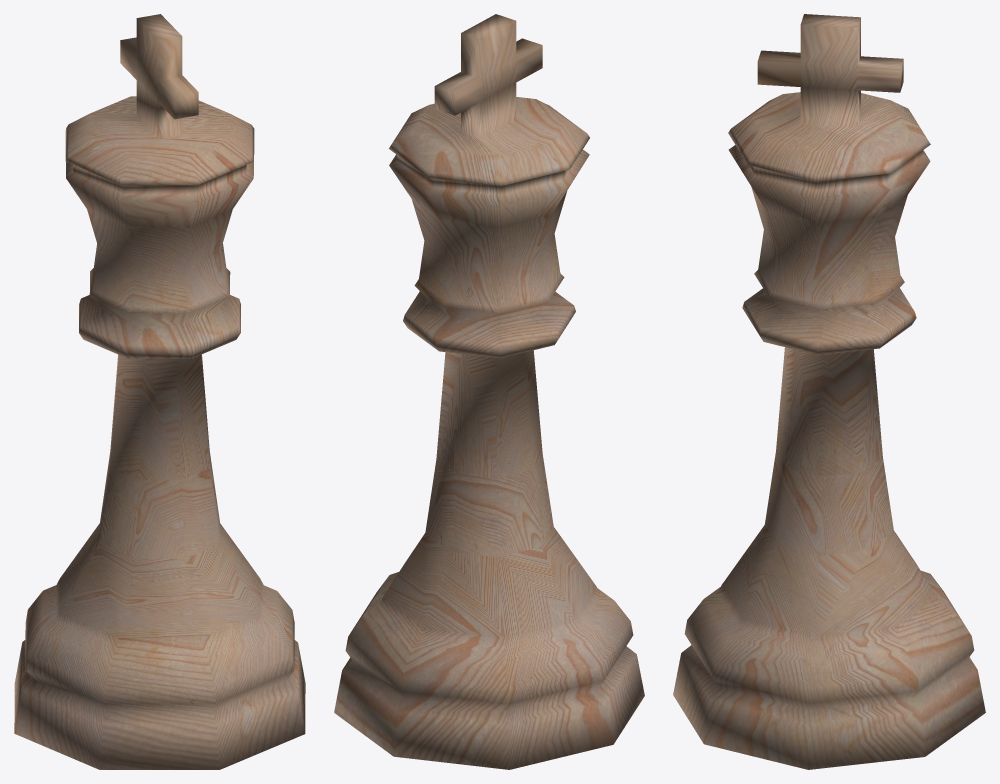
3 views of the same model, side by side, from view 1: azimuth 30°, elevation 25°; view 2: azimuth 150°, elevation 25°; view 3: azimuth 270°, elevation 25° (orthographic).
Parts seen in each view (by area): view 1: WhiteKing; view 2: WhiteKing; view 3: WhiteKing.
Boxes of the visible parts, <box> form: WhiteKing: <box>14,14,305,769</box>; WhiteKing: <box>334,14,644,769</box>; WhiteKing: <box>673,14,985,769</box>.
Bounding box in the file's own units: 0.0294 × 0.0709 × 0.0294.
1 material, 1 textured.
